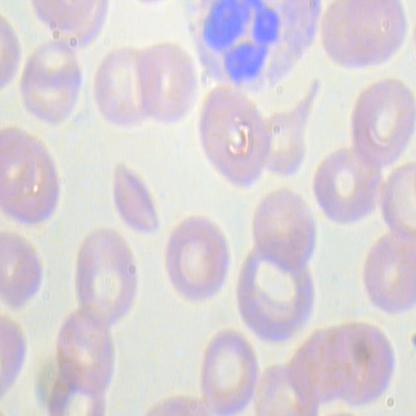WBC: (180, 0, 326, 96)
